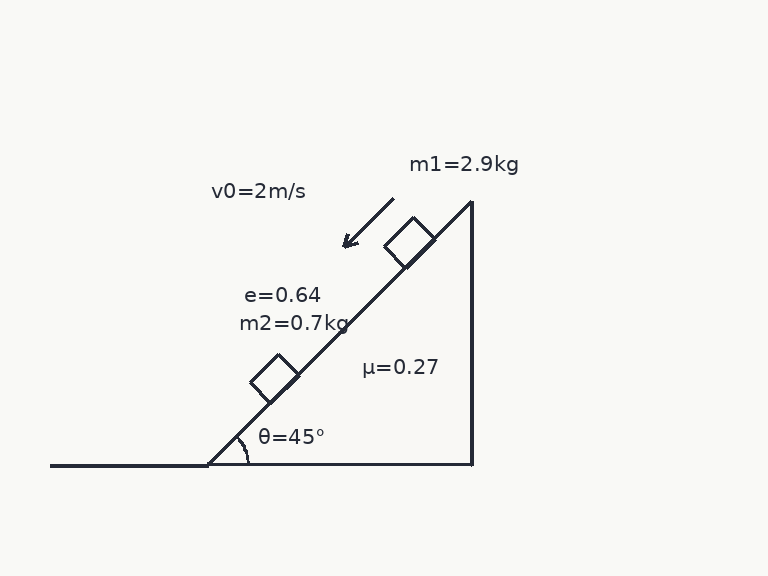block: (381, 215, 436, 270), (248, 352, 300, 405)
ramp: (206, 199, 474, 467)
